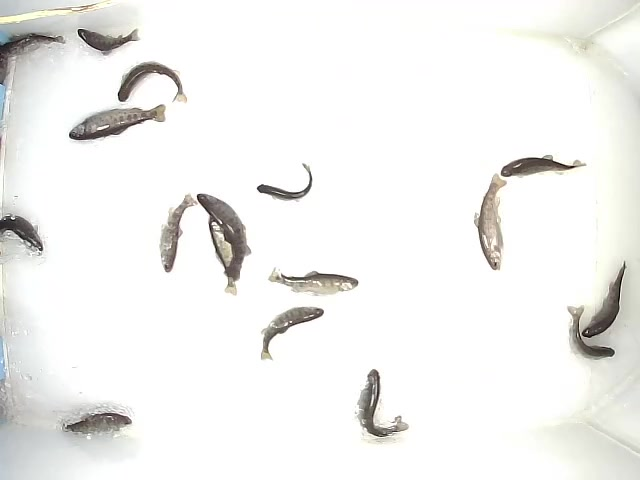fish: (66, 100, 167, 144), (354, 367, 410, 442), (196, 191, 241, 283), (259, 305, 326, 365), (580, 261, 630, 339), (472, 171, 508, 271), (159, 191, 197, 274), (113, 61, 188, 103), (269, 264, 360, 298), (566, 304, 617, 360), (209, 214, 239, 296), (254, 160, 312, 201), (497, 153, 588, 177), (76, 26, 141, 56), (62, 410, 134, 436)
